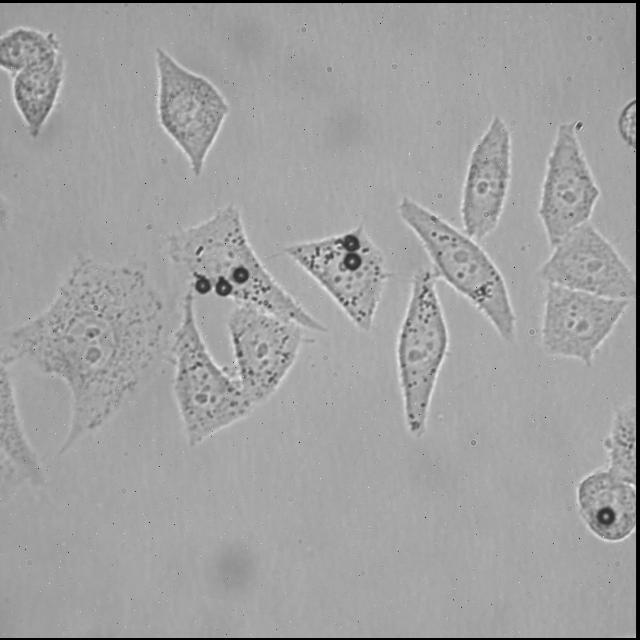microbeads: (342, 252, 366, 272), (595, 506, 615, 528), (227, 264, 250, 282), (215, 275, 233, 295), (191, 276, 213, 292), (346, 235, 362, 251)
